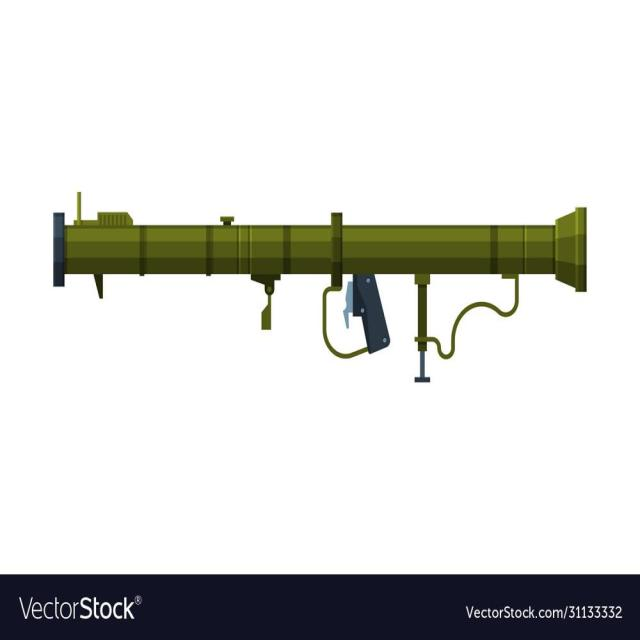weapon: (37, 191, 598, 388)
